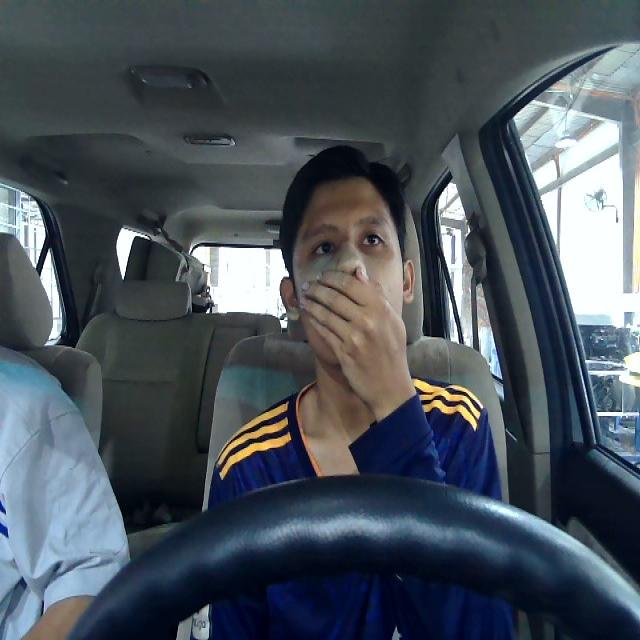yarning: (278, 172, 416, 371)
